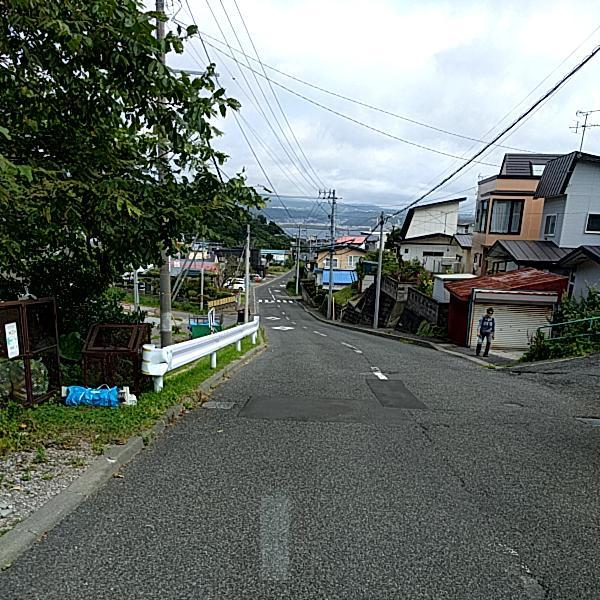D40: (512, 564, 556, 599), (499, 397, 525, 408)
D50: (200, 396, 239, 412)
